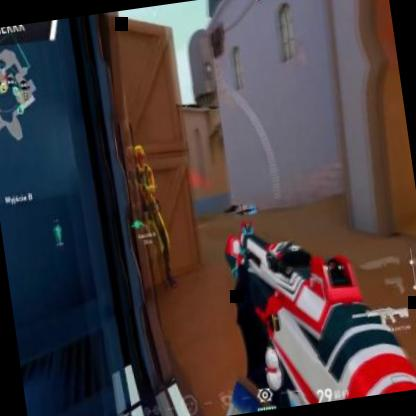enemy: (117, 140, 177, 294)
enemy_head: (132, 142, 146, 168)
